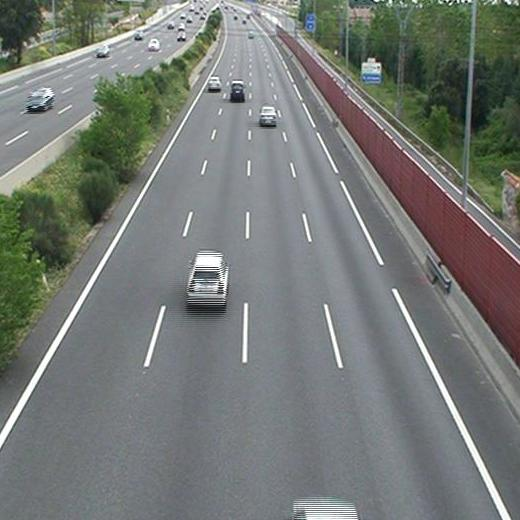car: (187, 253, 229, 304), (259, 106, 276, 124), (231, 81, 245, 98), (208, 76, 221, 89)
